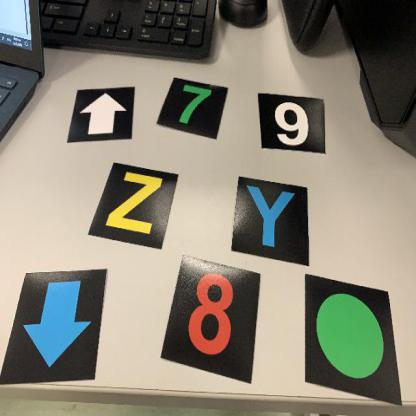7: (156, 74, 231, 141)
8: (162, 253, 262, 386)
9: (260, 92, 330, 155)
down: (1, 268, 110, 386)
go: (305, 273, 404, 408)
up: (67, 84, 136, 143)
y: (231, 172, 312, 268)
z: (87, 159, 180, 254)
